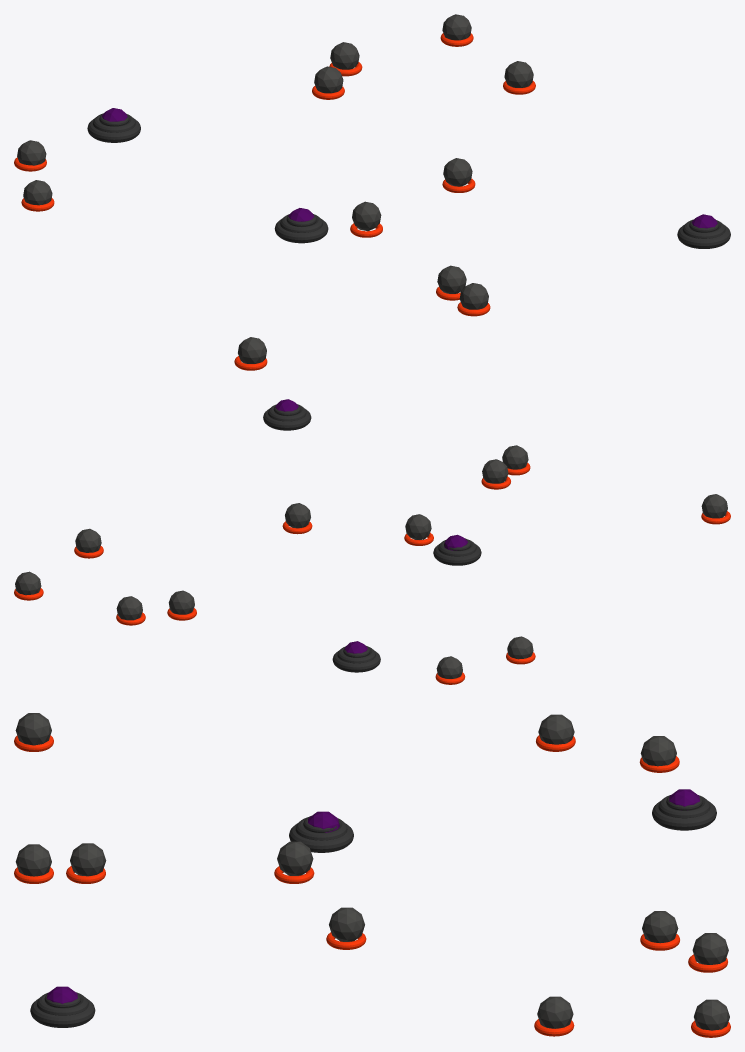
Rendered from commonRetailers.glb.
The picture shows the model from 3 angles, top to bottom: view 1: azimuth 30°, elevation 25°; view 2: azimuth 150°, elevation 25°; view 3: azimuth 270°, elevation 25°; orthographic projection. The views are drawn at different scales.
Visible parts, largest first — view 1: Icosphere.002, Icosphere.006, Icosphere.004, Icosphere.009, Icosphere.001, Icosphere.005, Icosphere.003, Icosphere.007, Torus, Torus.008, Icosphere.008, Torus.005 (+2 smaller); view 2: Icosphere.002, Icosphere.006, Icosphere.004, Icosphere.003, Icosphere.009, Icosphere.001, Icosphere.007, Torus.008, Icosphere.005, Torus, Torus.005, Icosphere.008 (+2 smaller); view 3: Icosphere.002, Icosphere.006, Icosphere.004, Icosphere.007, Icosphere.005, Icosphere.009, Icosphere.003, Icosphere.001, Icosphere.008, Torus.005, Torus, Icosphere.010 (+5 smaller).
Part boxes in pixels (x1,y1,x2,y2): Icosphere.002: (352,201,381,231); Icosphere.006: (443,158,472,186); Icosphere.004: (437,265,466,293); Icosphere.009: (330,42,359,69); Icosphere.001: (314,66,343,93); Icosphere.005: (459,283,488,309); Icosphere.003: (238,337,266,363); Icosphere.007: (504,61,533,87); Torus: (87,118,140,142); Torus.008: (274,219,328,243); Icosphere.008: (442,14,471,40); Torus.005: (677,225,730,248); Icosphere.002: (405,514,431,539); Icosphere.006: (285,503,310,528); Icosphere.004: (482,459,508,483); Icosphere.003: (701,494,727,518); Icosphere.009: (116,596,142,620); Icosphere.001: (168,590,194,614); Icosphere.007: (75,528,101,552); Torus.008: (433,544,481,565); Icosphere.005: (502,445,528,469); Torus: (332,651,380,672); Torus.005: (263,409,311,430); Icosphere.008: (15,571,41,595); Icosphere.002: (277,841,313,875); Icosphere.006: (329,907,364,941); Icosphere.004: (70,843,106,876); Icosphere.007: (537,996,573,1028); Icosphere.005: (15,844,51,876); Icosphere.009: (692,933,728,964); Icosphere.003: (15,713,51,745); Icosphere.001: (642,911,678,943); Icosphere.008: (694,999,729,1030); Torus.005: (30,998,95,1027); Torus: (652,801,716,830); Icosphere.010: (538,714,574,744).
Size of the model in its own units: 55.3 by 3.19 by 55.1.
